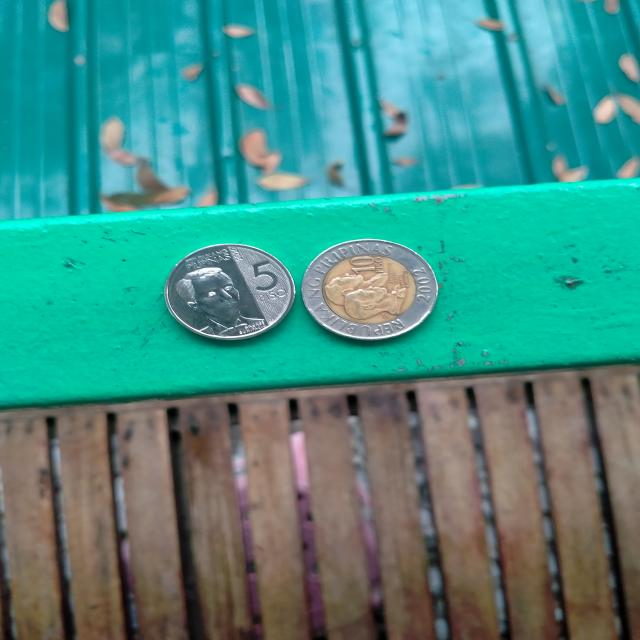10_Old_Front: (307, 245, 437, 343)
5_New_Front: (173, 253, 280, 334)
